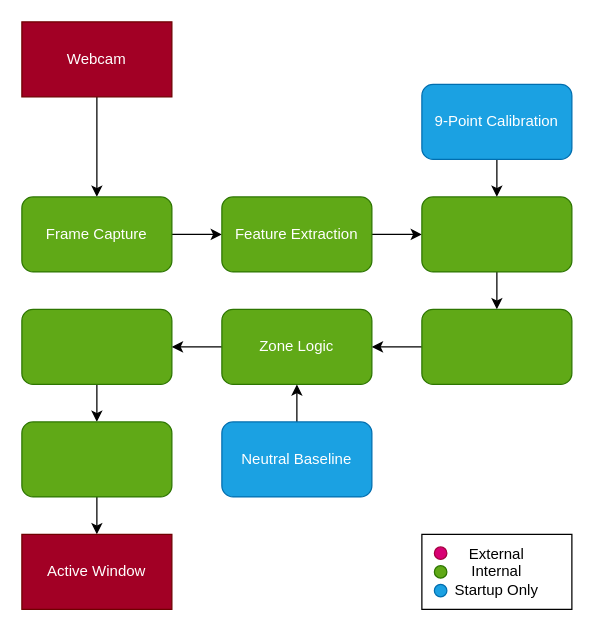
Some shapes in this 594 by 631 pixel diagram are drawn without their labels. Here are the shapes that lost their labels. From the top down, the box of each, then its label:
(421, 196, 572, 272): Gaze Predictor
(21, 308, 172, 384): Cooldown Gate
(421, 308, 572, 384): Smoothing
(21, 421, 172, 497): Key Press
